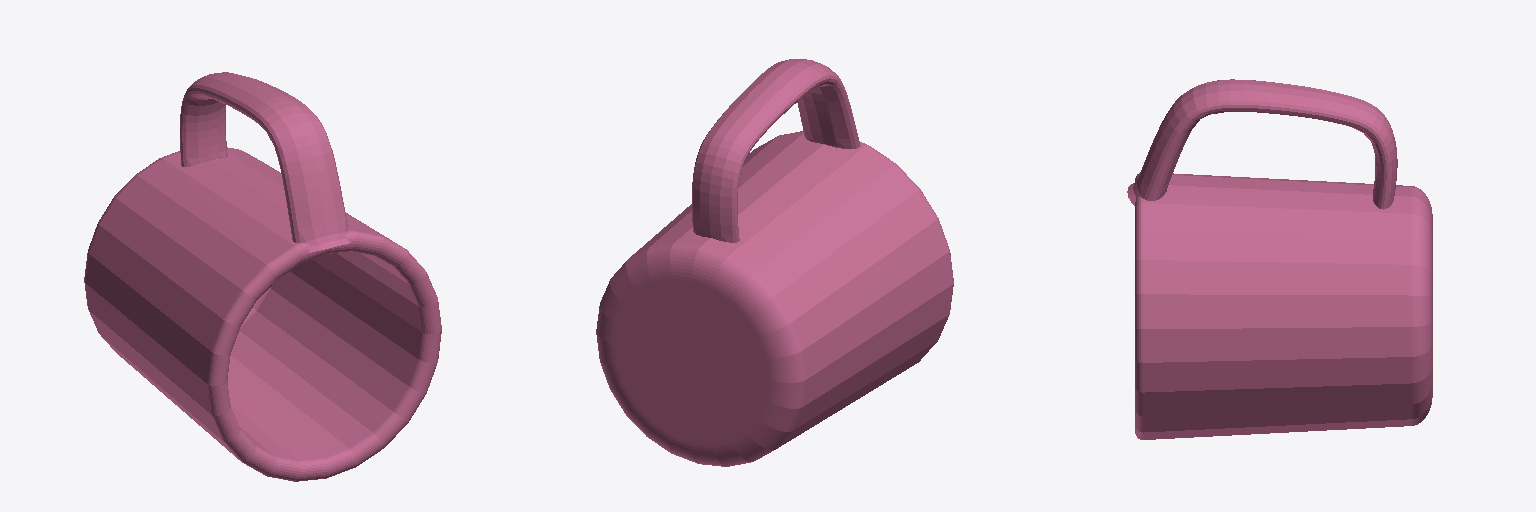
The picture shows the model from 3 angles: view 1: azimuth 30°, elevation 25°; view 2: azimuth 150°, elevation 25°; view 3: azimuth 270°, elevation 25°; orthographic projection.
Visible parts, largest first — view 1: instance_cup_3; view 2: instance_cup_3; view 3: instance_cup_3.
Part boxes in pixels (bbox=[...]): instance_cup_3: bbox=[84, 72, 441, 481]; instance_cup_3: bbox=[596, 59, 953, 466]; instance_cup_3: bbox=[1127, 79, 1432, 439].
Size of the model in its own units: 0.0739 by 0.1042 by 0.0838.